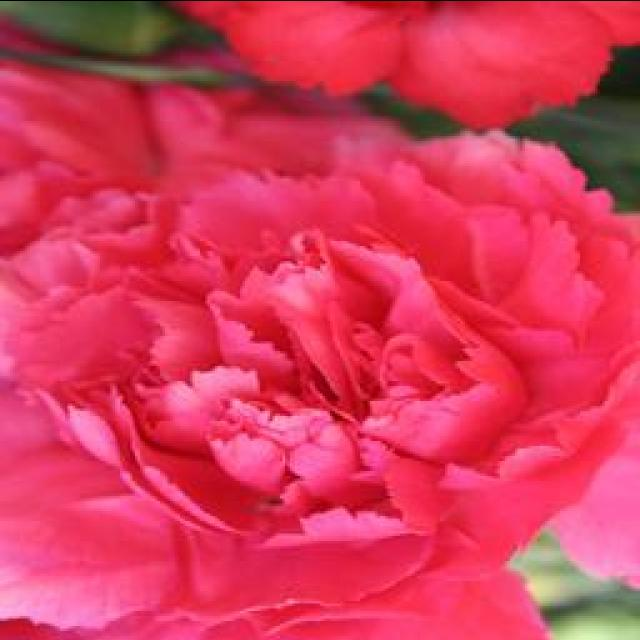carnation: (7, 125, 640, 640)
